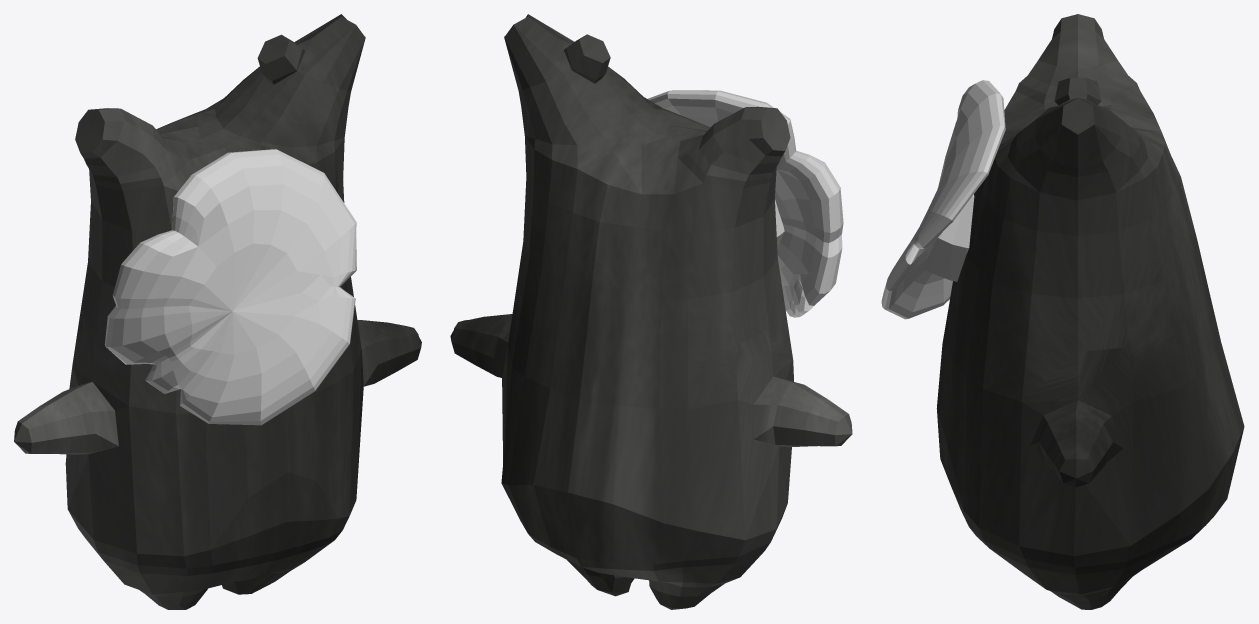
Rendered from frame_0002.obj.
3 views of the same model, side by side, from view 1: azimuth 30°, elevation 25°; view 2: azimuth 150°, elevation 25°; view 3: azimuth 270°, elevation 25° (orthographic).
Parts seen in each view (by area): view 1: korok, leaf; view 2: korok, leaf; view 3: korok, leaf, nose.
Boxes of the visible parts, bbox=[...] form: korok: bbox=[14, 14, 421, 609]; leaf: bbox=[104, 149, 356, 425]; korok: bbox=[450, 14, 852, 609]; leaf: bbox=[648, 90, 843, 317]; korok: bbox=[936, 14, 1244, 609]; leaf: bbox=[881, 80, 1005, 319]; nose: bbox=[922, 194, 974, 281].
Size of the model in its own units: 1.78 by 2.33 by 1.38.
